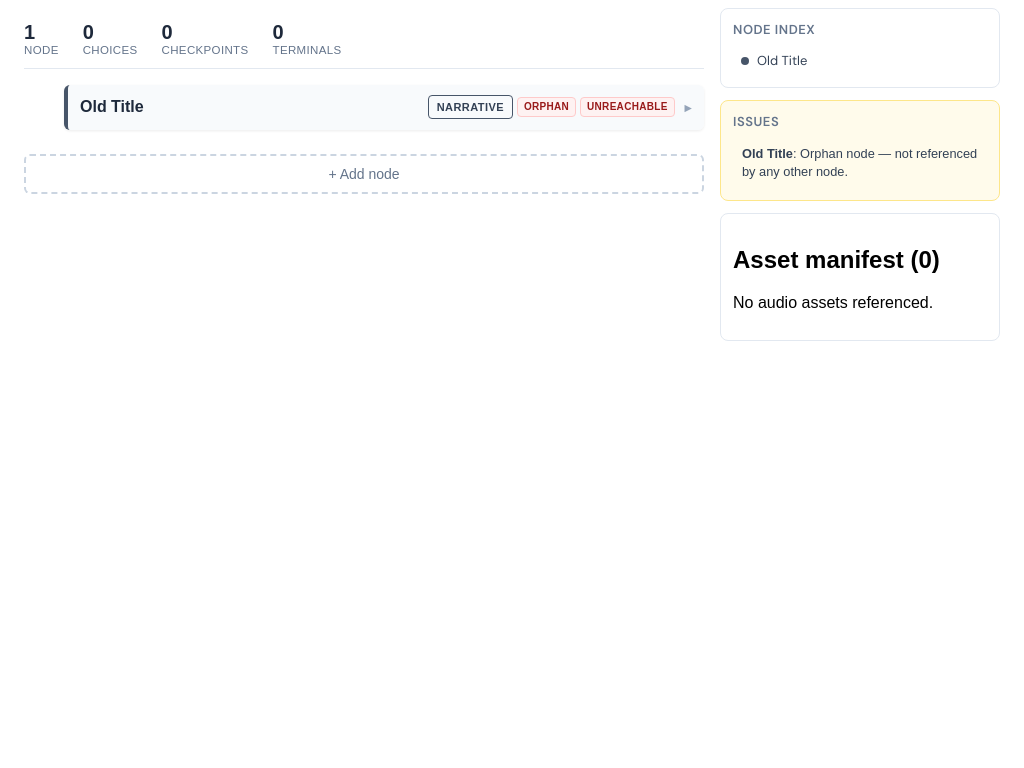
Test: OutlineView — title editing › commits title to store on blur
Click the button "Old Title narrative Orphan Unreachable ▶": click(112, 106) [68,85,704,130]
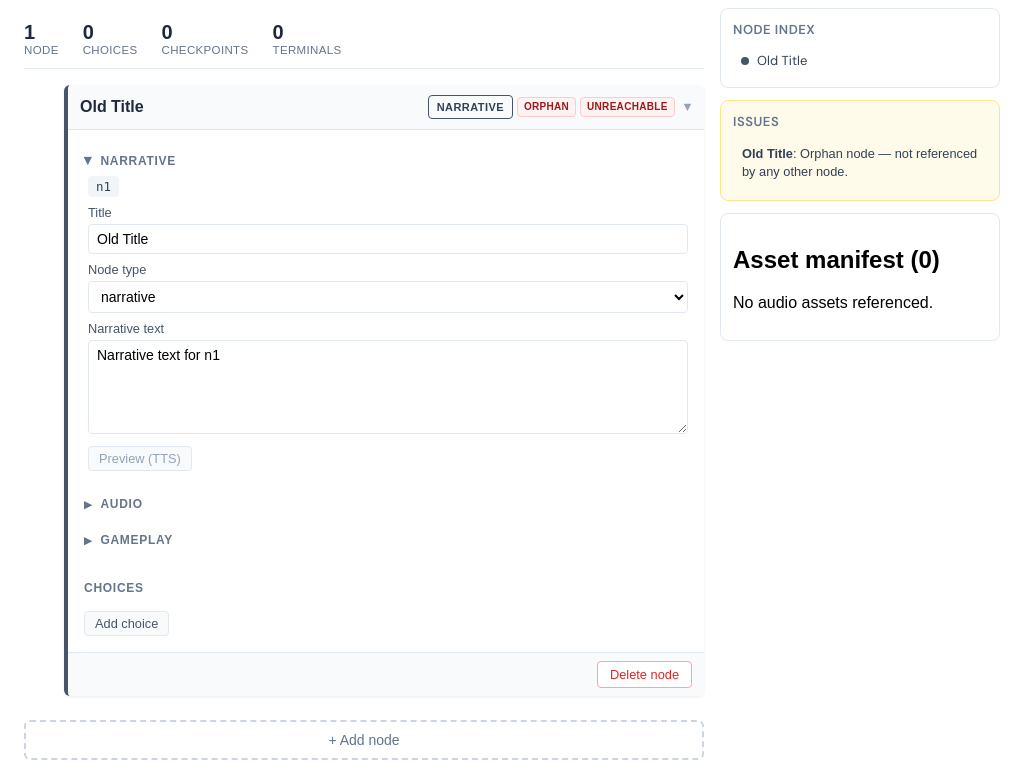
Replace the text in the field labelled "Title" with "New Title": (388, 239) [88,224,688,254]
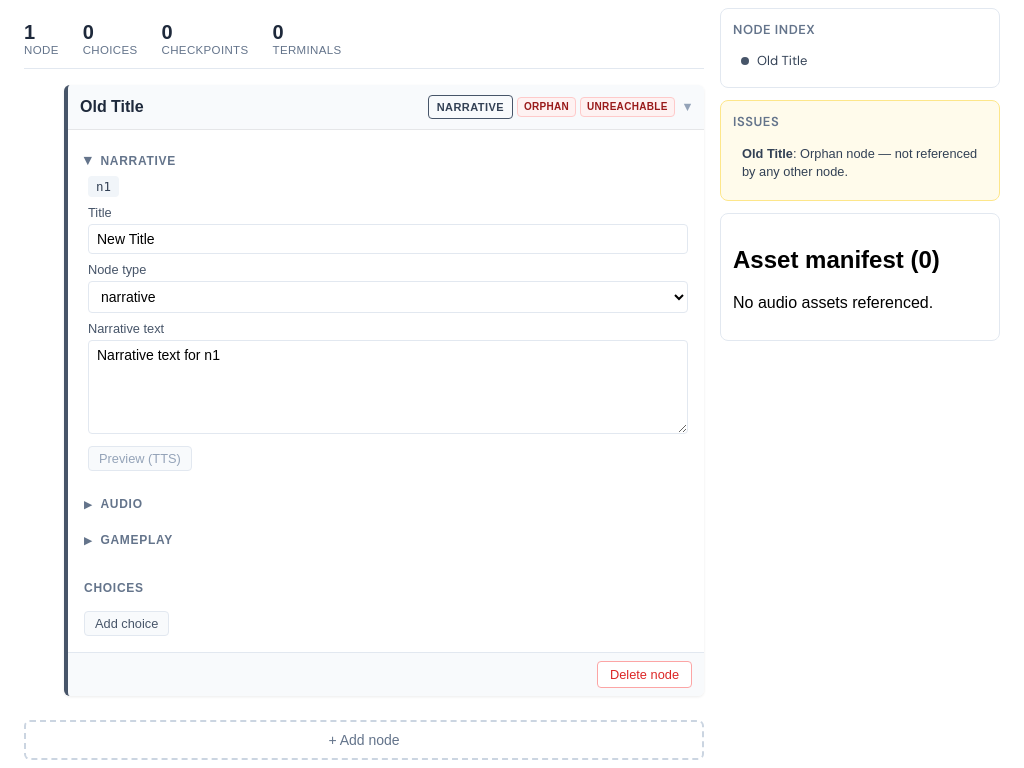
Leave the field labelled "Title", box [88,224,688,254]
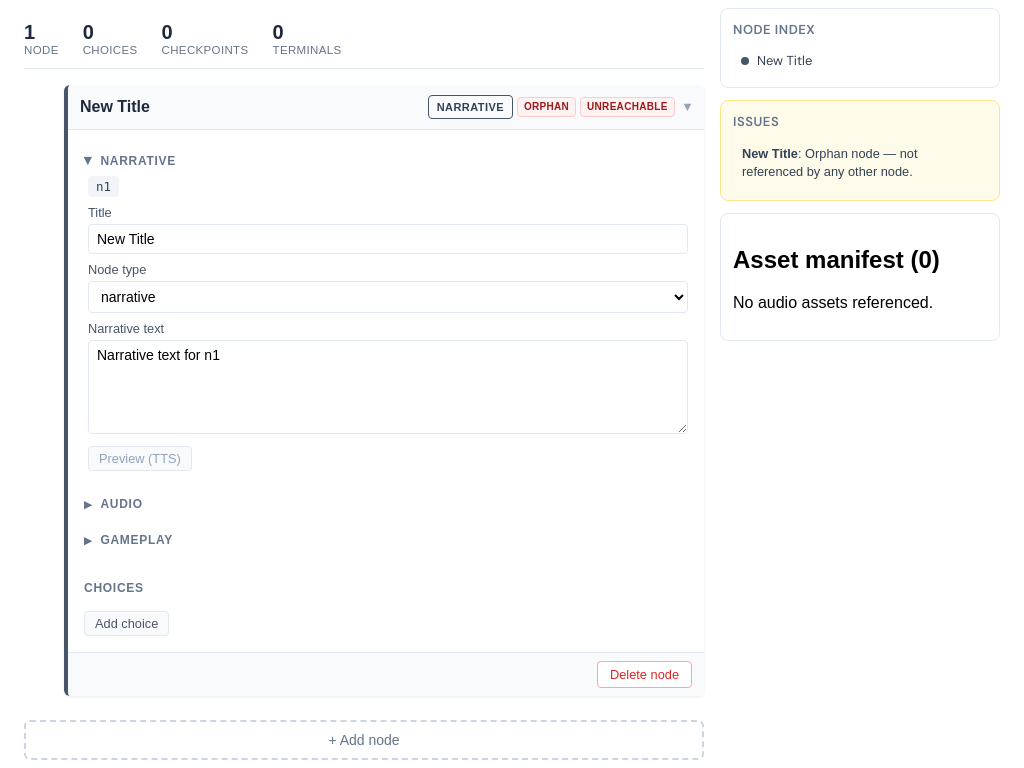
expect the text "New Title" below "checkpoints" is shown: met, box [80,98,150,115]
